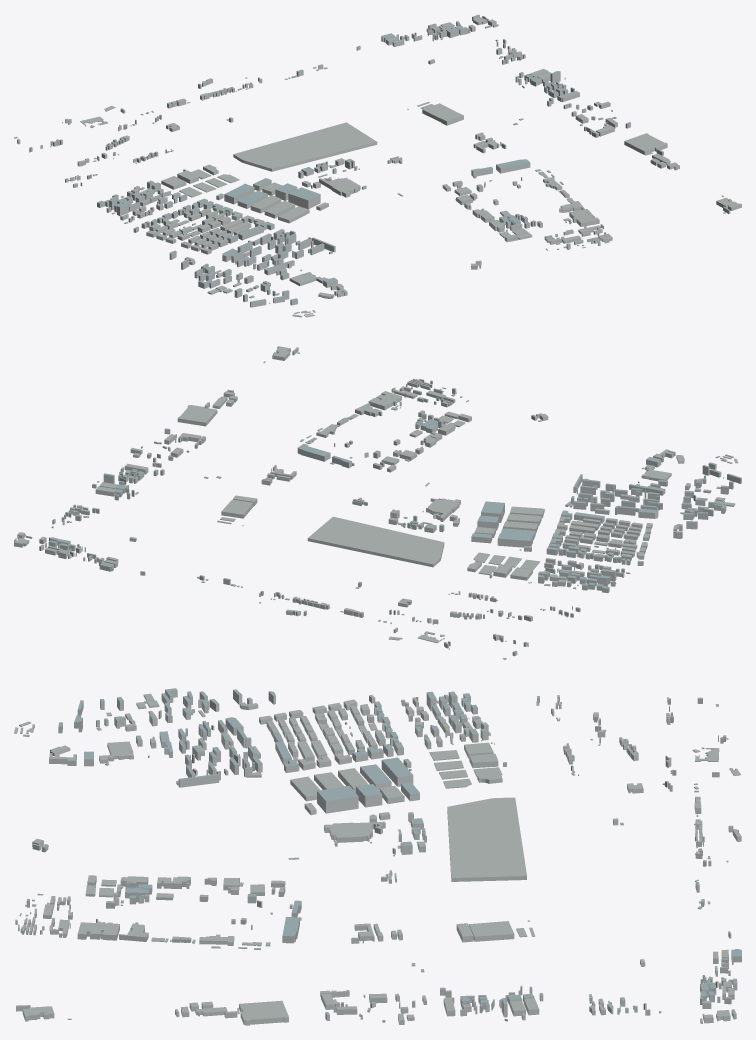
File: far.glb
3 renders of one model, top to bottom at view 1: azimuth 30°, elevation 25°; view 2: azimuth 150°, elevation 25°; view 3: azimuth 270°, elevation 25°, orthographic. The views are drawn at different scales.
Size of the model in its own units: 2156 by 39.63 by 2006.
